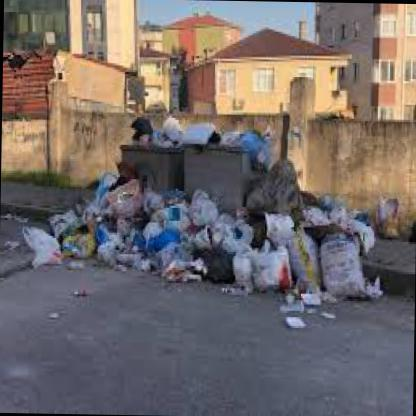Garbage: (21, 190, 176, 276), (138, 204, 266, 288), (270, 216, 368, 312), (128, 114, 273, 148), (248, 157, 302, 218)
